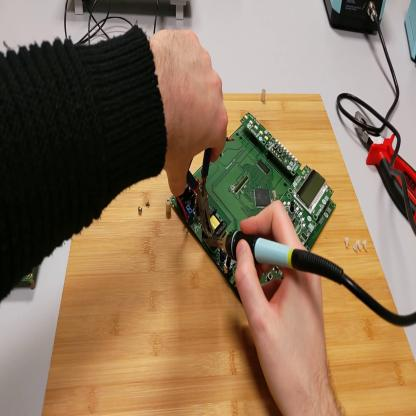hand: (233, 199, 334, 405), (147, 28, 229, 198)
low voltage board: (172, 113, 339, 305)
oscilloscope: (74, 3, 189, 24)
pliers: (355, 110, 415, 229), (187, 143, 214, 225)
welder base: (404, 3, 416, 62)
welder probe tip: (202, 232, 345, 283)
welder station: (323, 2, 386, 32)
working area: (45, 90, 416, 414)
